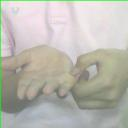hand: (13, 43, 76, 101), (70, 46, 127, 109)
